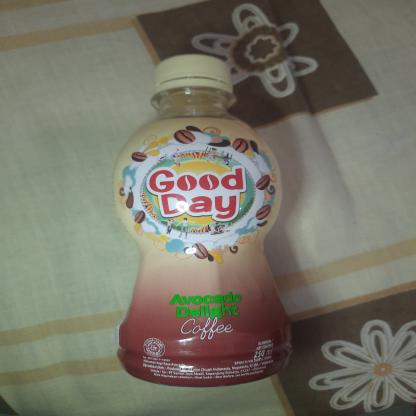bottle: (107, 50, 292, 391)
